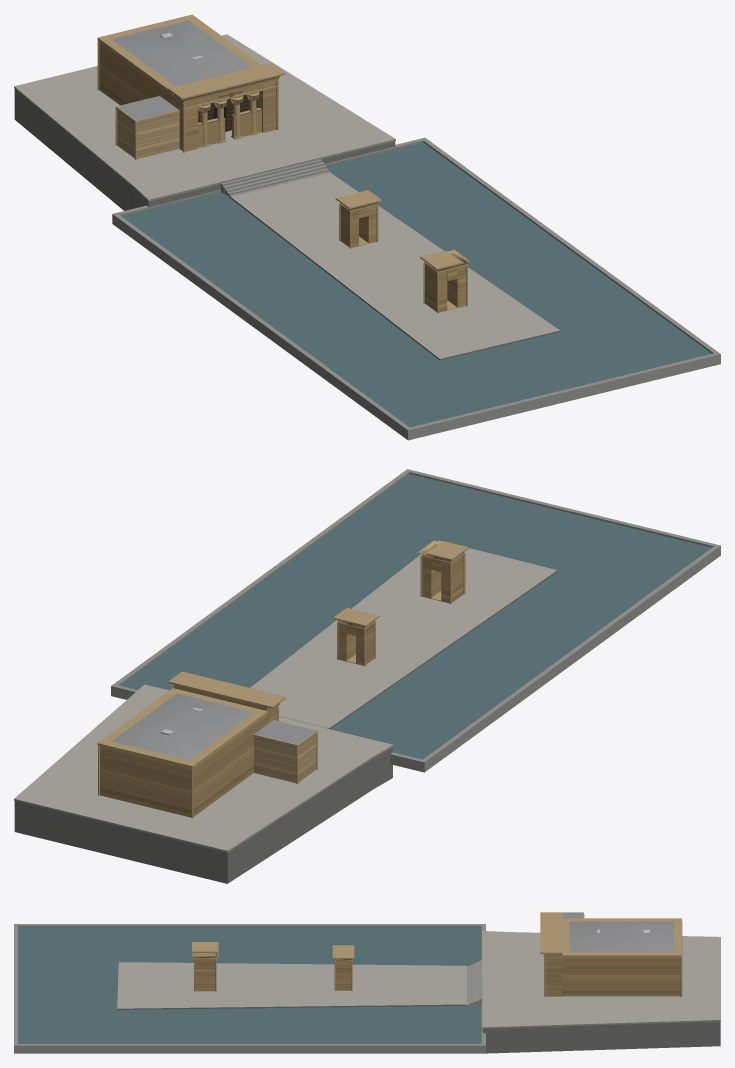
3 views of the same model, one above another, from view 1: azimuth 30°, elevation 25°; view 2: azimuth 150°, elevation 25°; view 3: azimuth 270°, elevation 25° (orthographic). The views are drawn at different scales.
Visible parts, largest first — view 1: templo_de_debod, pool; view 2: templo_de_debod, pool; view 3: templo_de_debod, pool.
Part boxes in pixels (left/top/right/bottom): templo_de_debod: left=14, top=14, right=720, bottom=440; pool: left=121, top=142, right=711, bottom=427; templo_de_debod: left=14, top=469, right=720, bottom=883; pool: left=120, top=474, right=711, bottom=759; templo_de_debod: left=14, top=912, right=720, bottom=1053; pool: left=18, top=927, right=481, bottom=1043.
Size of the model in its own units: 42.4 by 12.1 by 104.
